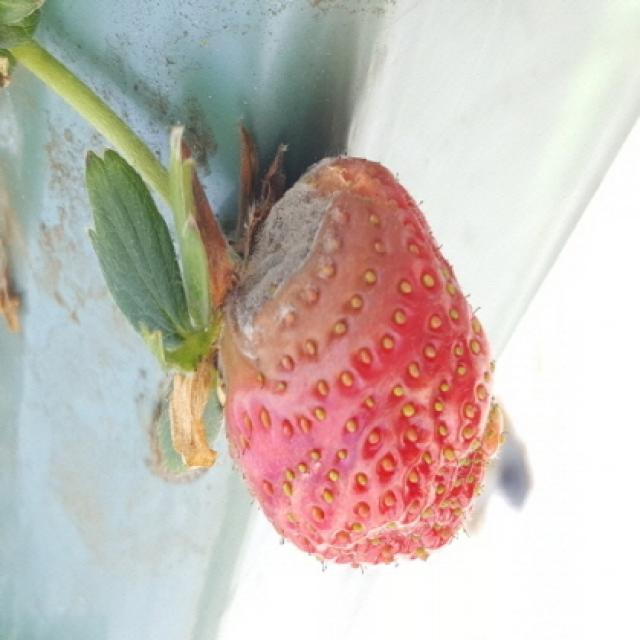Gray Mold: (217, 156, 506, 569)
